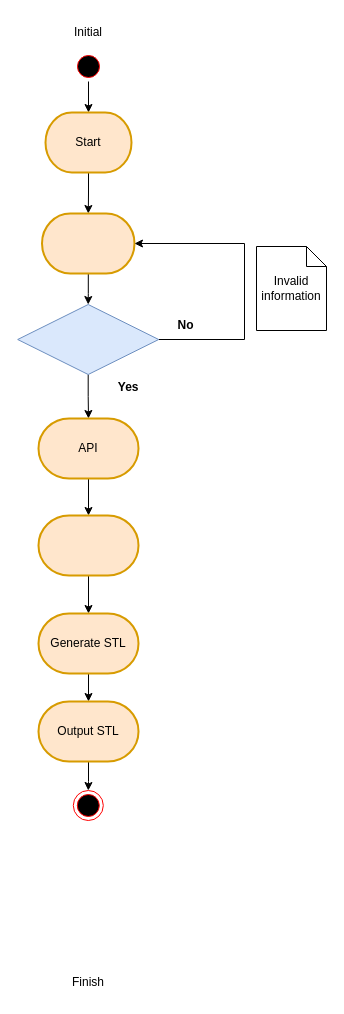
Some shapes in this 344 by 1014 pixel diagram are drawn without their labels. The shapes that lost their labels are listed below. From the top down, each one's centre as x and y in pixels, then its label:
(x=87, y=243): Request
(x=88, y=339): Check information
(x=88, y=545): Generate png
